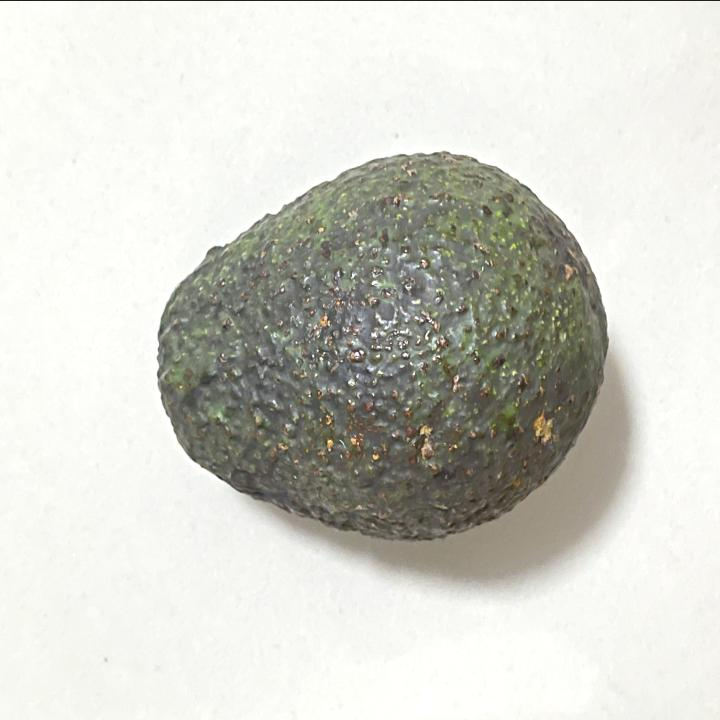Level1: (141, 136, 627, 558)
